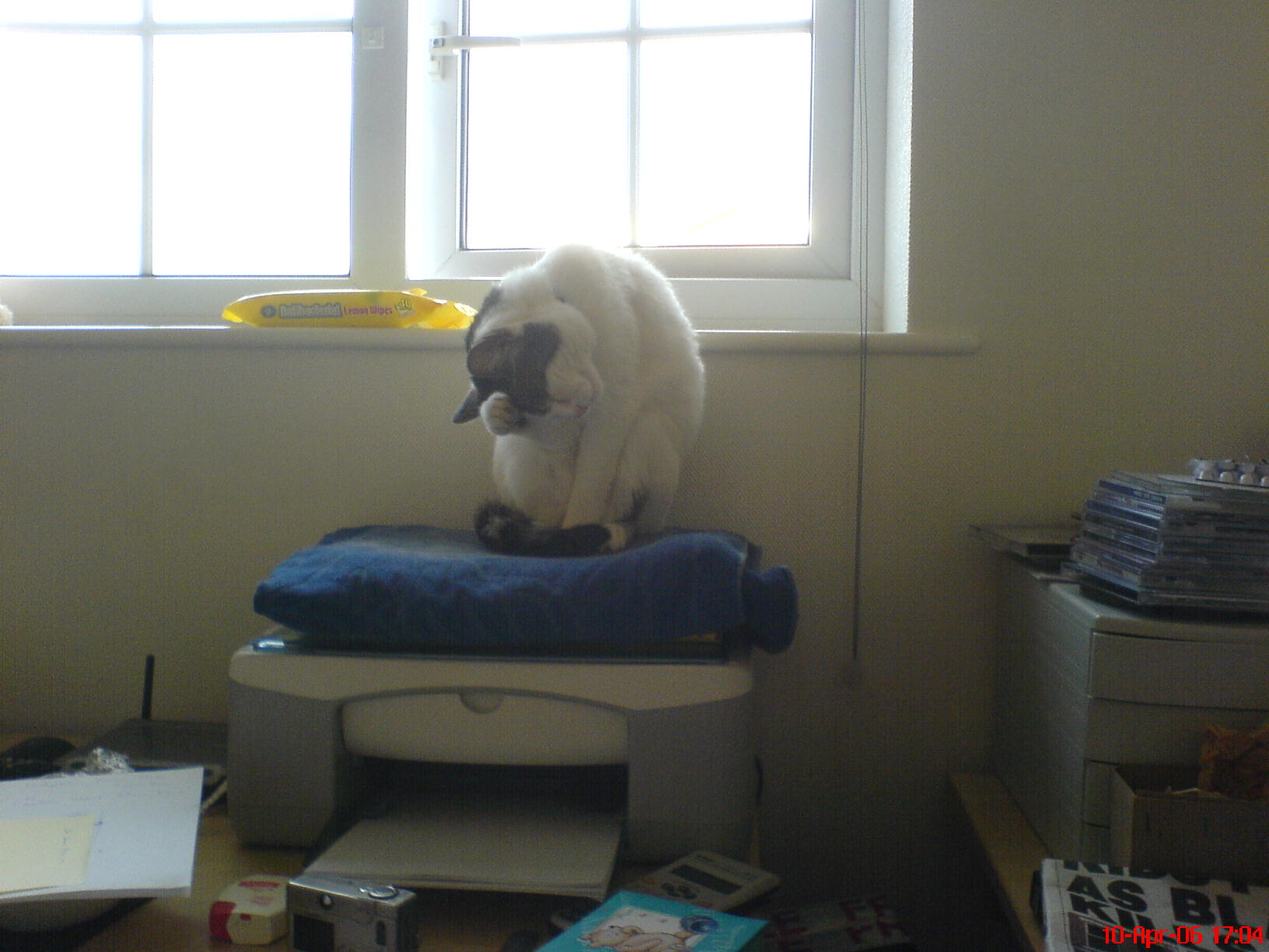cat: (447, 232, 718, 561)
